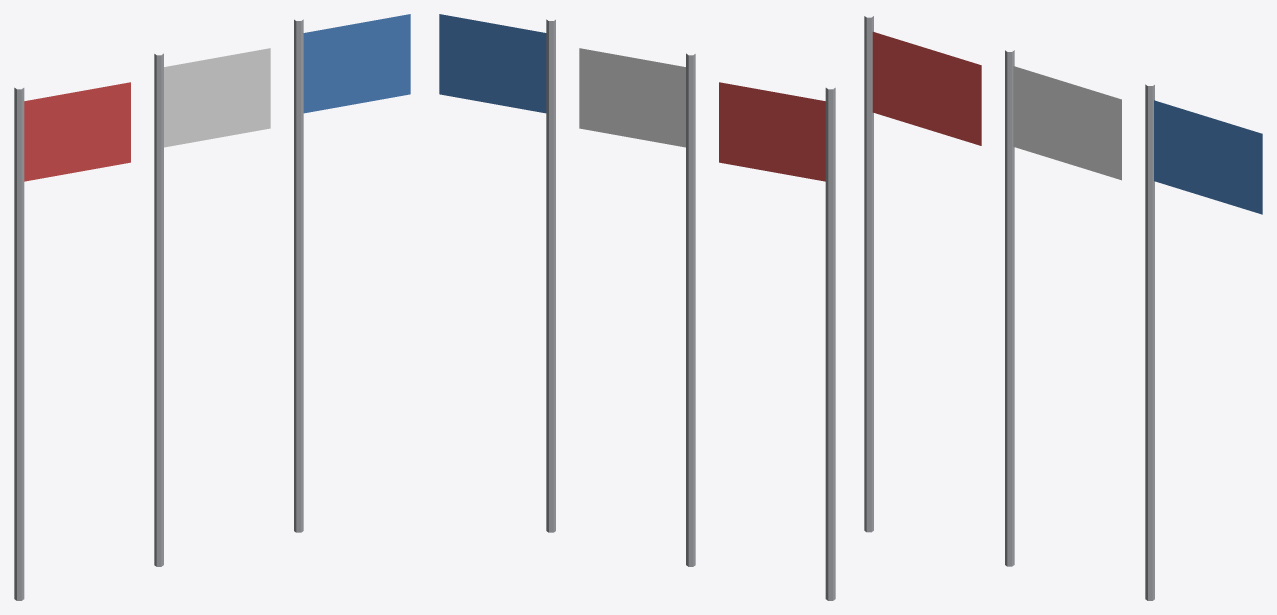
File: enna_flag_poles.glb
3 views of the same model, side by side, from view 1: azimuth 30°, elevation 25°; view 2: azimuth 150°, elevation 25°; view 3: azimuth 330°, elevation 25° (orthographic).
Parts seen in each view (by area): view 1: enna_flag_poles; view 2: enna_flag_poles; view 3: enna_flag_poles.
Part boxes in pixels (x1,y1,x2,y2): enna_flag_poles: (14,14,410,600); enna_flag_poles: (439,14,835,600); enna_flag_poles: (864,16,1262,600).
Size of the model in its own units: 5.65 by 7 by 0.12.
